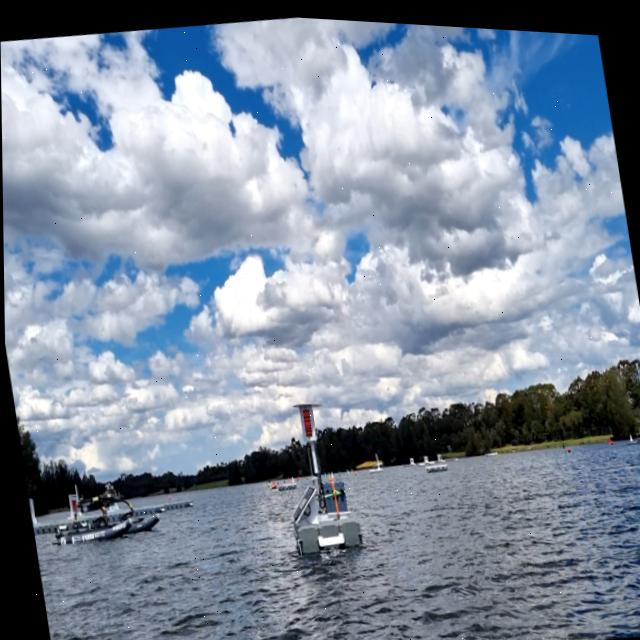led: (300, 402, 314, 437)
